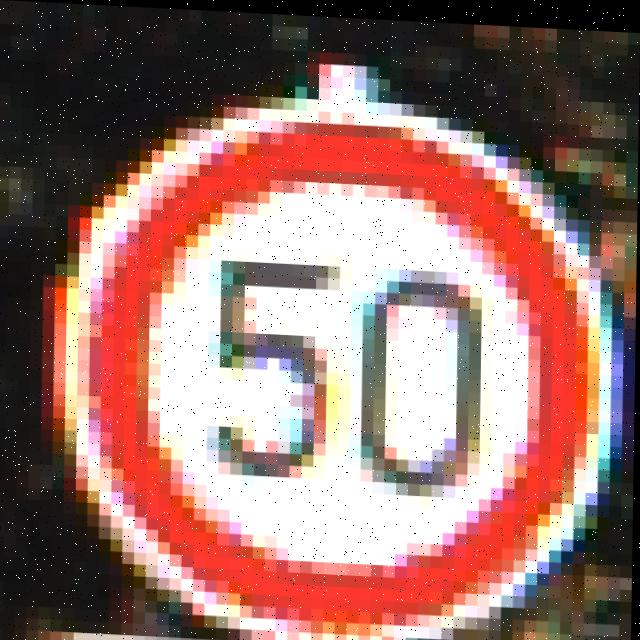speed_limit_50: (44, 80, 626, 640)
